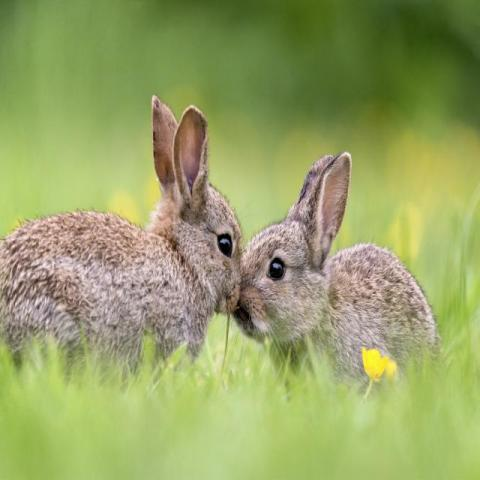small_animal: (0, 93, 244, 379), (231, 149, 442, 395)
